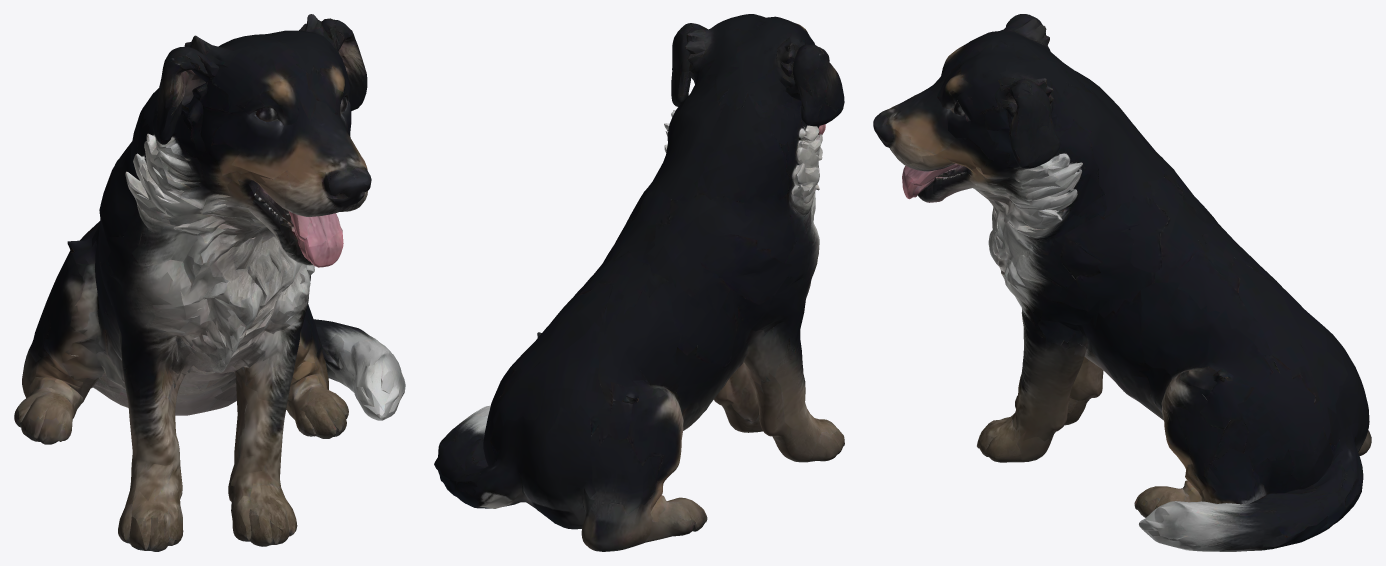
Rendered from zero-realista.glb.
The picture shows the model from 3 angles, left to right: view 1: azimuth 30°, elevation 25°; view 2: azimuth 150°, elevation 25°; view 3: azimuth 270°, elevation 25°; orthographic projection. The views are drawn at different scales.
Parts seen in each view (by area): view 1: output_unwrapped; view 2: output_unwrapped; view 3: output_unwrapped.
Part boxes in pixels (left/top/right/bottom): output_unwrapped: left=14, top=14, right=405, bottom=551; output_unwrapped: left=434, top=14, right=844, bottom=551; output_unwrapped: left=873, top=14, right=1371, bottom=551.
Bounding box in the file's own units: 1.37 × 1.74 × 1.9.
1 material, 1 textured.
